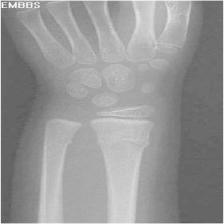greenstick-fracture: (1, 0, 204, 224)
